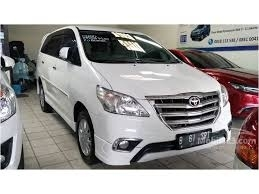plate: (179, 133, 212, 147)
